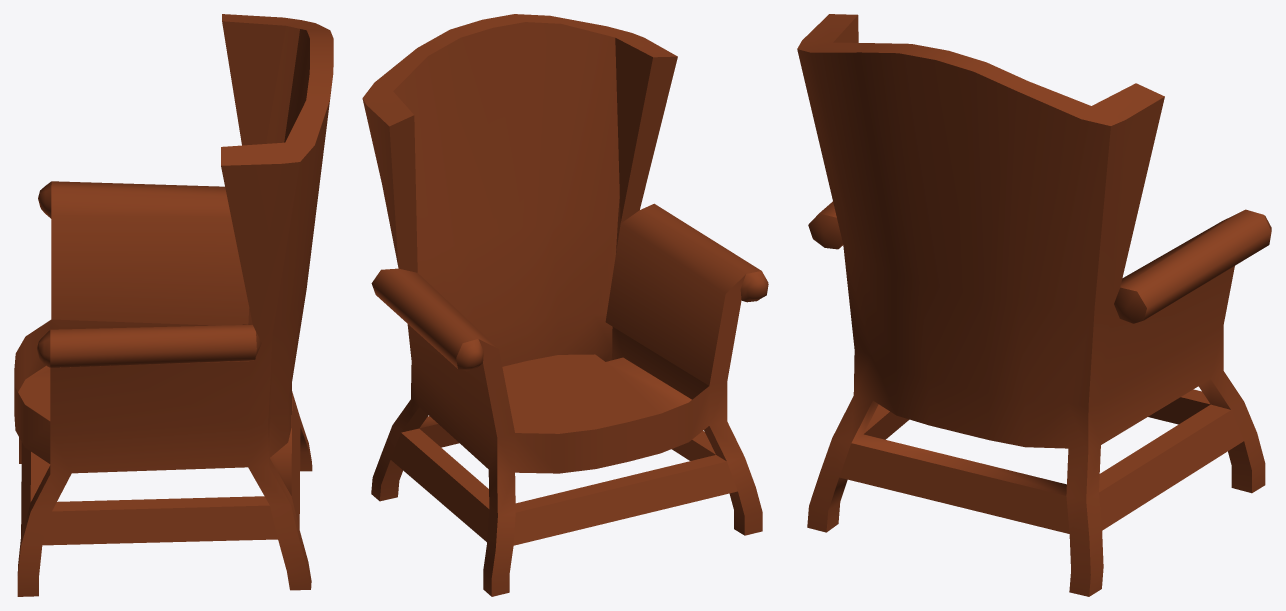
The model's file is m_roomOfPoleDance_armChair.fbx.
3 views of the same model, side by side, from view 1: azimuth 30°, elevation 25°; view 2: azimuth 150°, elevation 25°; view 3: azimuth 270°, elevation 25° (orthographic). The views are drawn at different scales.
Parts seen in each view (by area): view 1: m_roomOfPoleDance_armChair; view 2: m_roomOfPoleDance_armChair; view 3: m_roomOfPoleDance_armChair.
Part boxes in pixels (left/top/right/bottom): m_roomOfPoleDance_armChair: left=14, top=14, right=333, bottom=596; m_roomOfPoleDance_armChair: left=362, top=14, right=768, bottom=596; m_roomOfPoleDance_armChair: left=797, top=14, right=1271, bottom=596.
Bounding box in the file's own units: 87.48 × 110 × 92.74.
